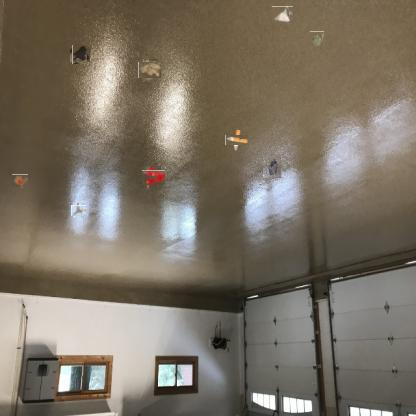dirty: (263, 156, 281, 178), (140, 61, 160, 80), (271, 6, 293, 23), (229, 132, 245, 149), (13, 173, 28, 188), (310, 31, 324, 46), (72, 204, 85, 217)
liquid: (144, 168, 163, 188), (71, 46, 89, 63)
